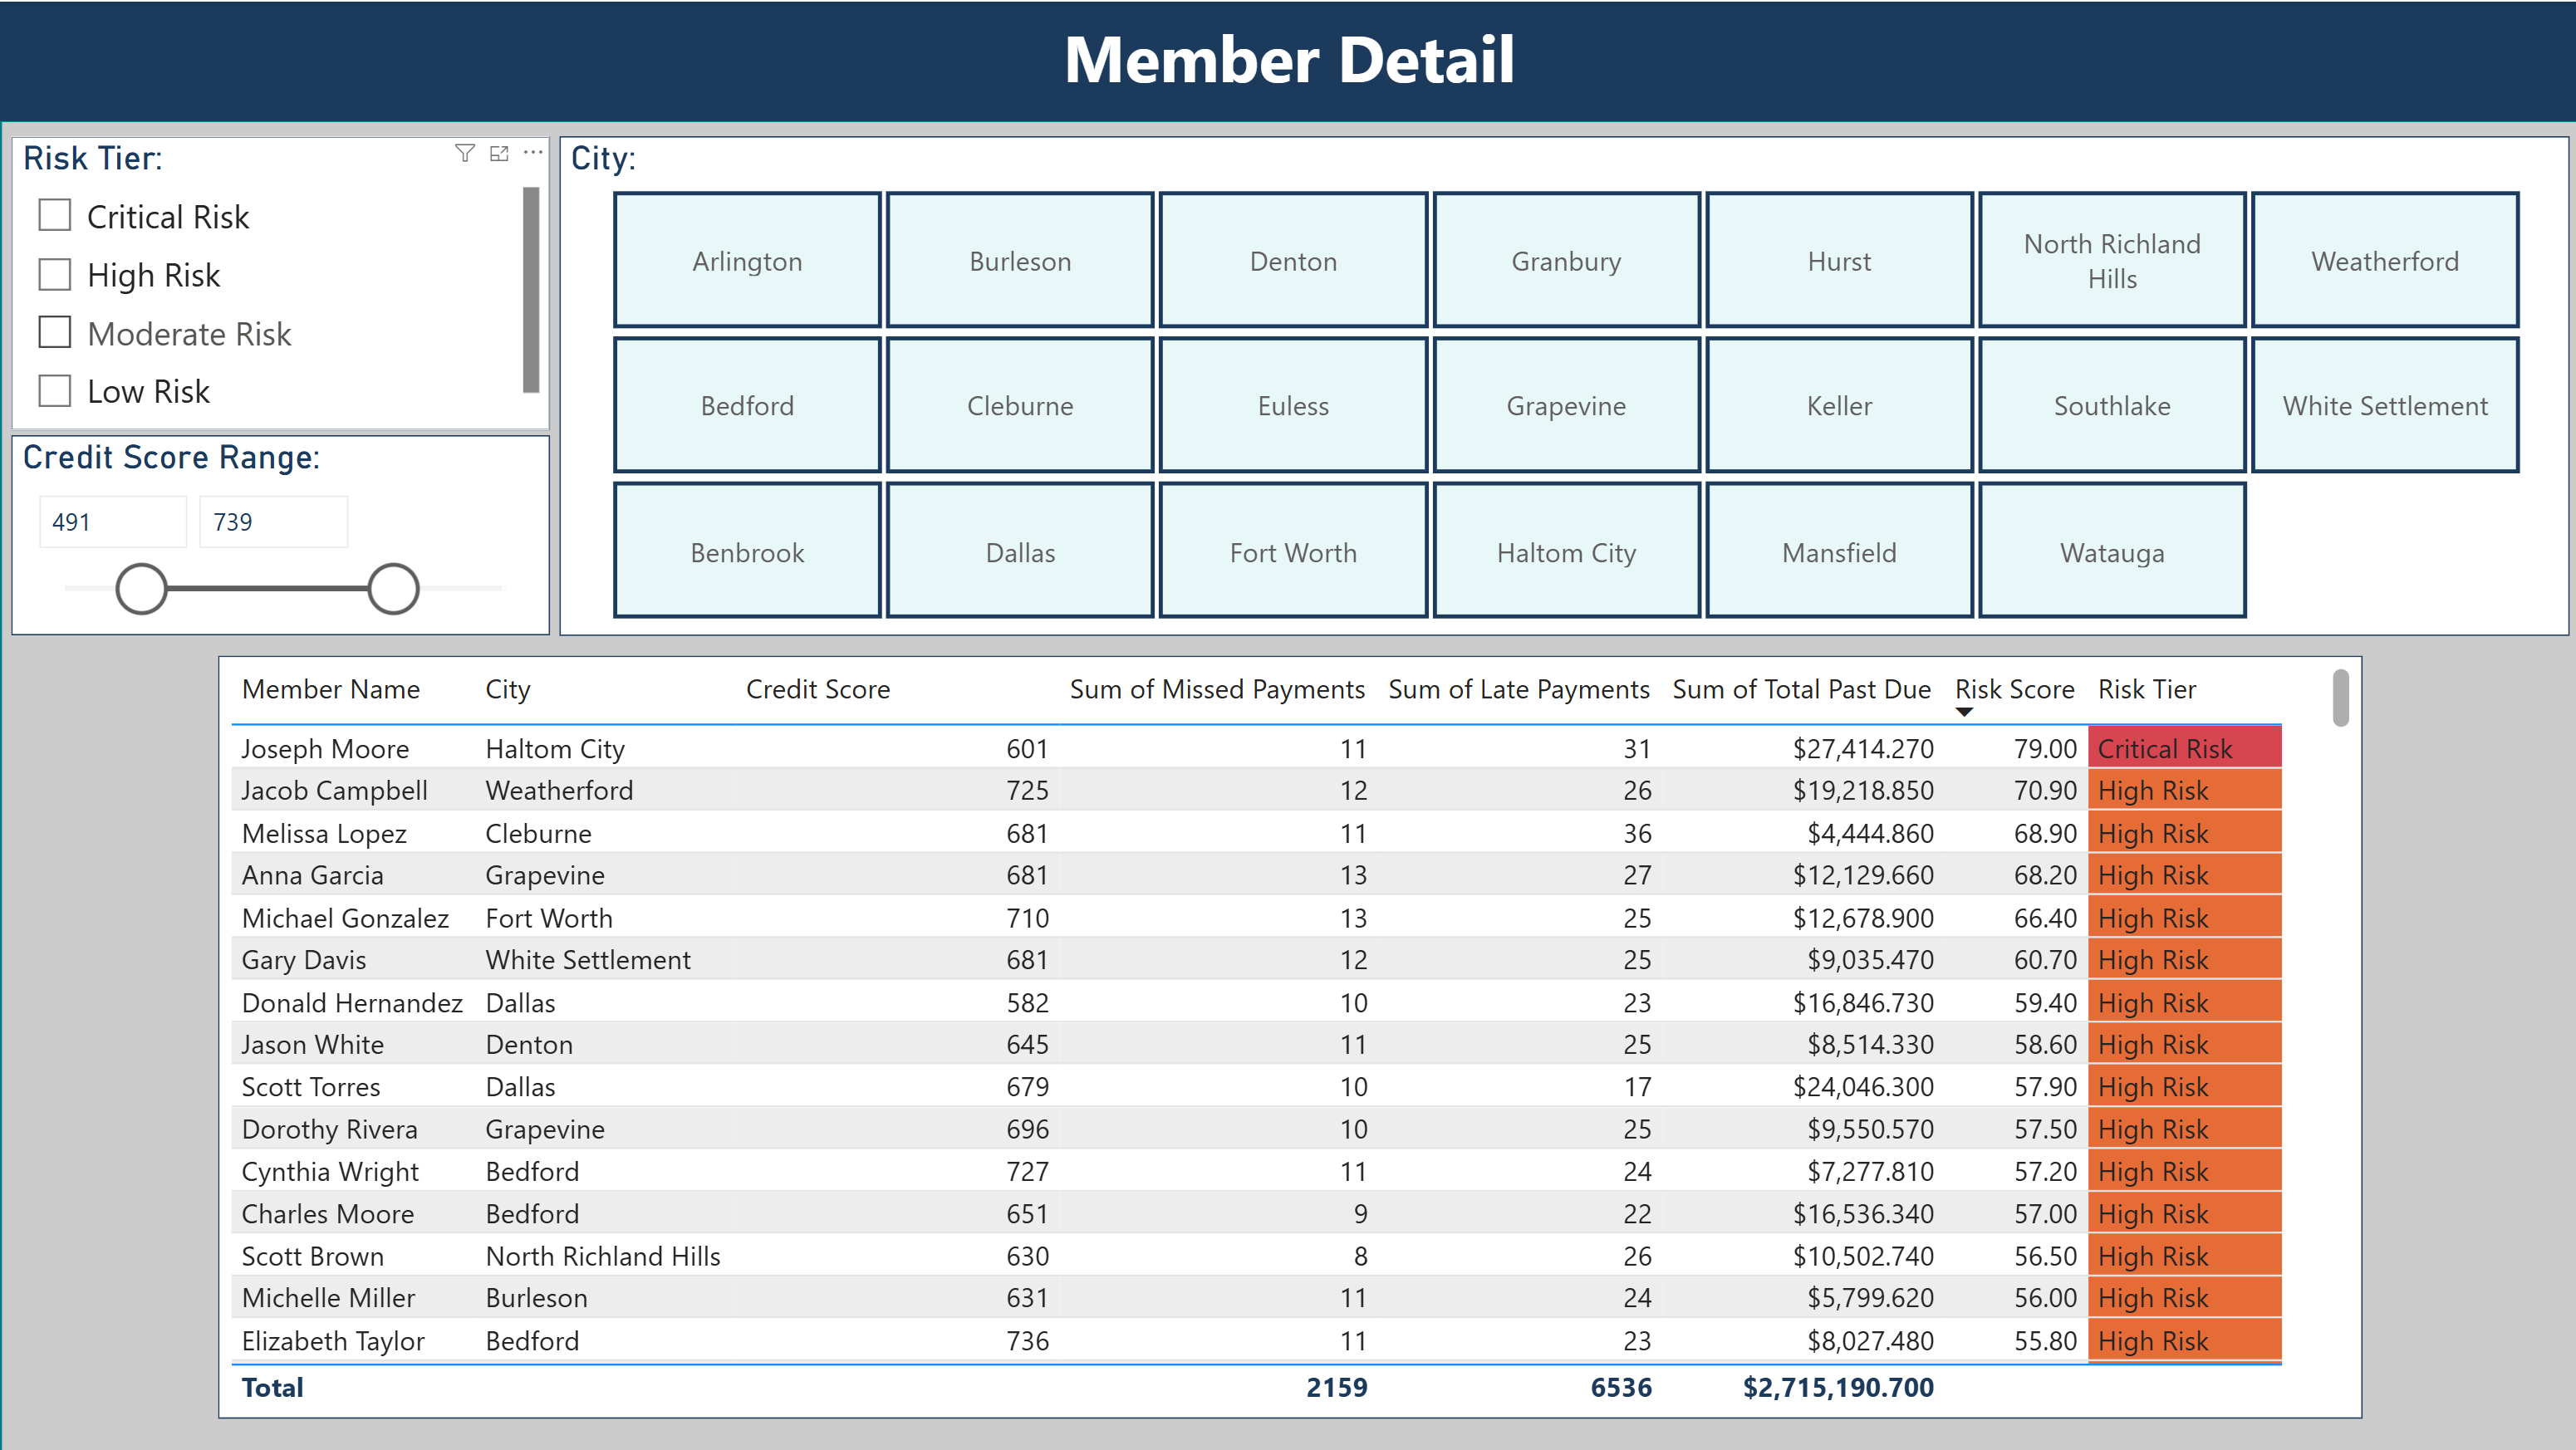

The dashboard page shown, as its layout file describes it:
{"tool":"powerbi","page":{"name":"Member Detail","canvas":[1280,720],"ordinal":1},"visuals":[{"type":"shape","box":[0,59,1279.9,661.1],"z":0},{"type":"slicer","title":"Risk Tier:","fields":{"Values":["member_delinquency_scored.risk_tier"]},"box":[5.6,66.7,267.4,145.8],"z":1000},{"type":"slicer","title":"Credit Score Range:","fields":{"Values":["member_delinquency_scored.credit_score"]},"box":[5.5,215.3,267.5,99.6],"z":2000},{"type":"slicer","title":"City:","fields":{"Values":["member_delinquency_scored.city"]},"box":[277.8,66.7,997.5,248],"z":3000},{"type":"tableEx","fields":{"Values":["member_delinquency_scored.member_name","member_delinquency_scored.city","Sum(member_delinquency_scored.credit_score)","Sum(member_delinquency_scored.missed_payment_count)","Sum(member_delinquency_scored.late_payment_count)","Sum(member_delinquency_scored.total_amount_past_due)","Sum(member_delinquency_scored.risk_score)","member_delinquency_scored.risk_tier"]},"box":[108.1,324.3,1064.2,378.4],"z":4000},{"type":"textbox","box":[0,0,1279.7,59.3],"z":5000}]}

Visuals, with their boxes in screenshot pixels (x1, y1, x2, y2), scaled from the page's 1280x720 canvas onto the 2576x1450 screenshot:
shape: left=0, top=119, right=2575, bottom=1449
"Risk Tier:" slicer: left=12, top=135, right=549, bottom=428
"Credit Score Range:" slicer: left=11, top=434, right=549, bottom=634
"City:" slicer: left=559, top=135, right=2567, bottom=634
tableEx - member_delinquency_scored.member_name x member_delinquency_scored.city: left=218, top=653, right=2359, bottom=1415
textbox: left=0, top=0, right=2575, bottom=120
